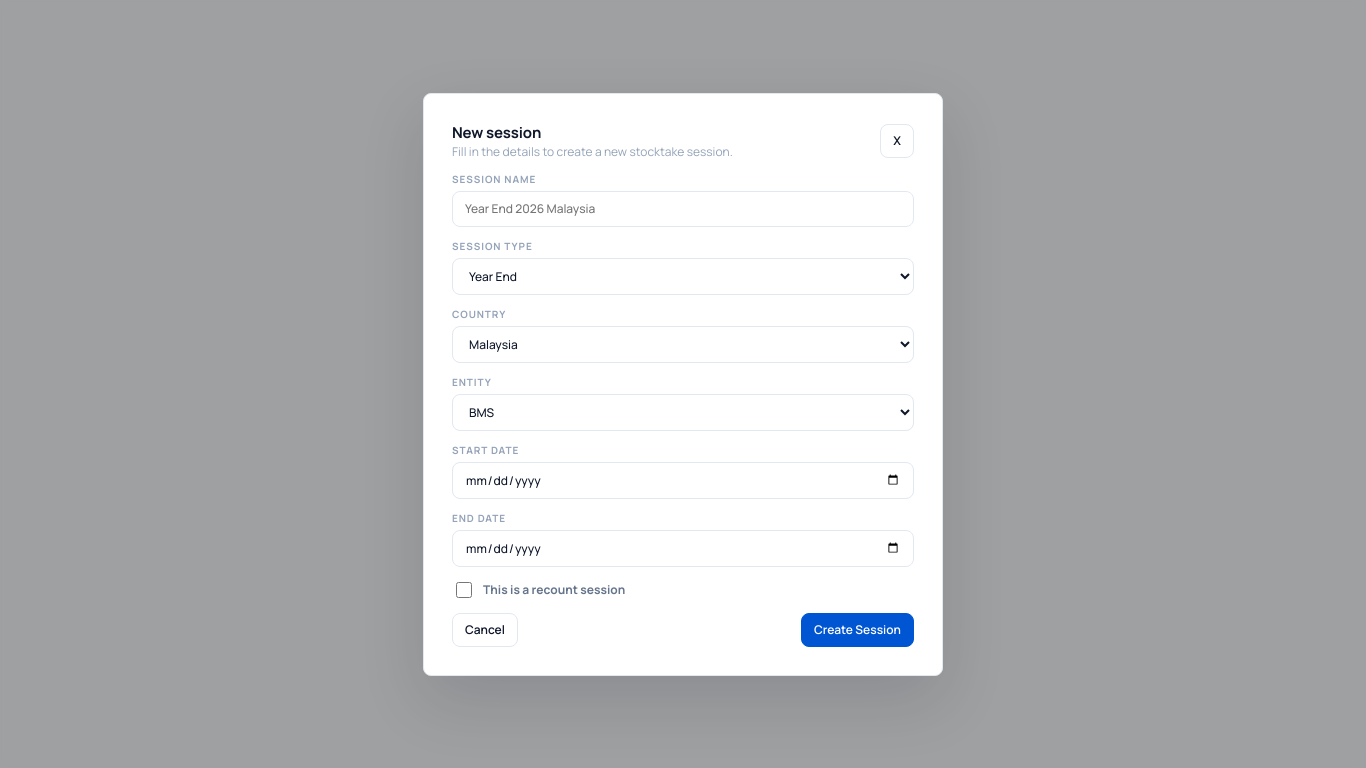
Test: NewSessionModal › shows validation errors when required fields are missing
This screenshot has width=1366, height=768.
Step 1. Click the button "Create Session" → [857, 630], box [801, 612, 914, 646]
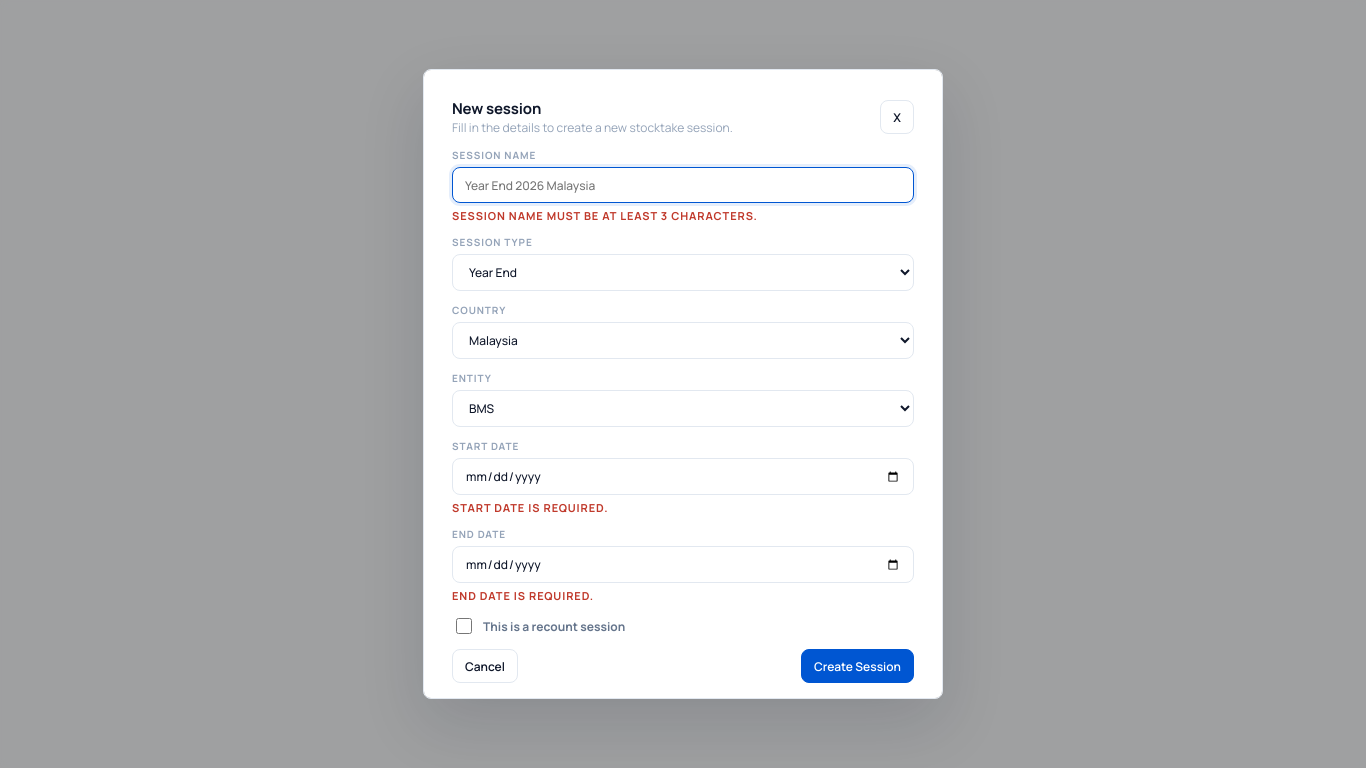
Check: the text "Session name must be at least 3 characters." is shown, box [452, 208, 758, 223]
Check: the text "Start date is required." is shown, box [452, 500, 608, 515]
Check: the text "End date is required." is shown, box [452, 588, 594, 603]
